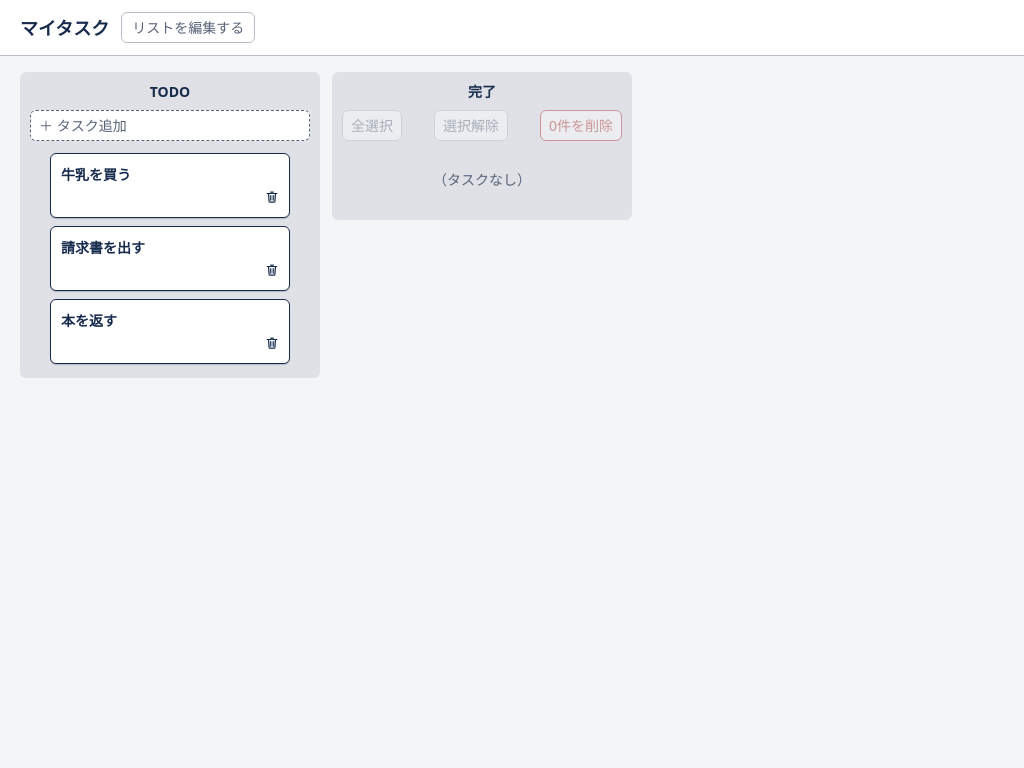
操作の失敗と巻き戻し › 削除に失敗したら、タスクが元の位置に戻る
Expected: the heading "牛乳を買う" is shown, 61,165 -> 131,184
What coordinates should you click on to do the following:
click the button named "「請求書を出す」を削除"
I would click on:
 (272, 270)
Its box is 265,263 -> 279,277.
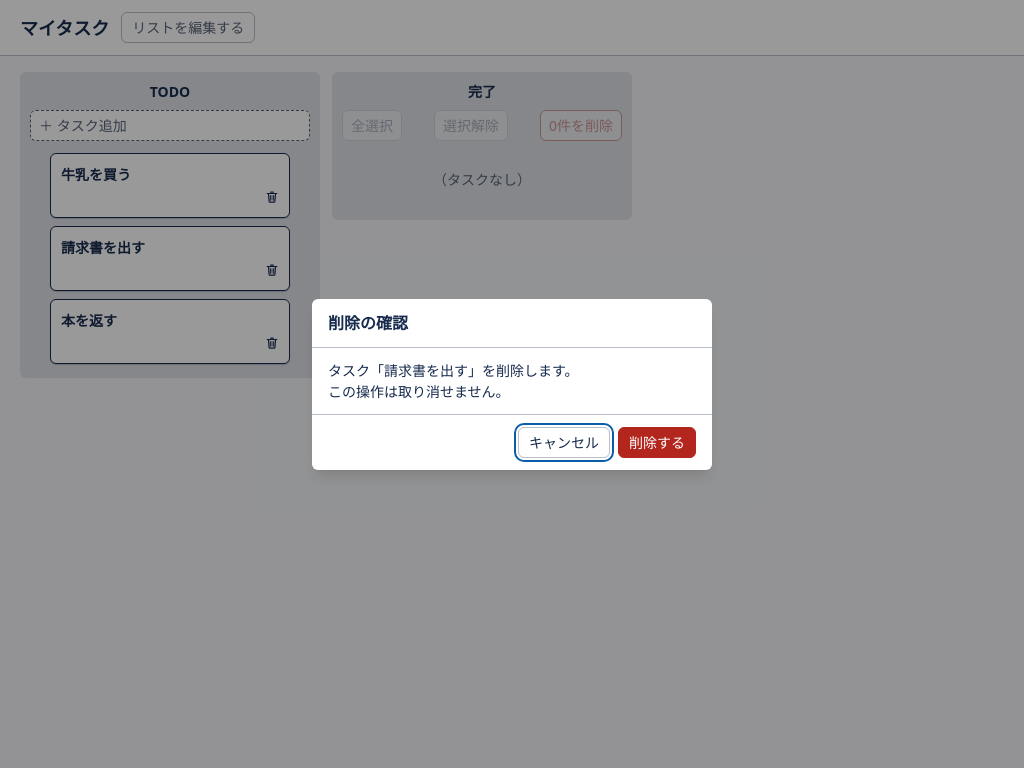
What coordinates should you click on to do the following:
click the button "削除する"
I would click on:
 (657, 442)
Its box is 618,426 -> 696,458.
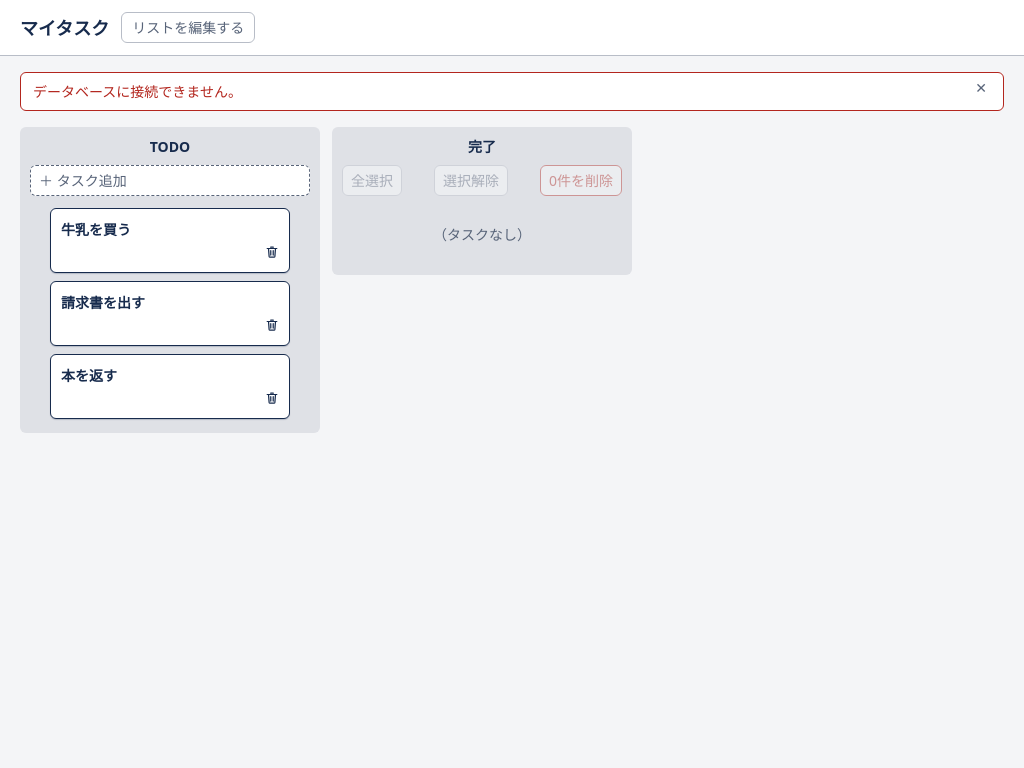
Expected: the message "データベースに接続できません。 ✕" is shown, 20,72 -> 1004,111
